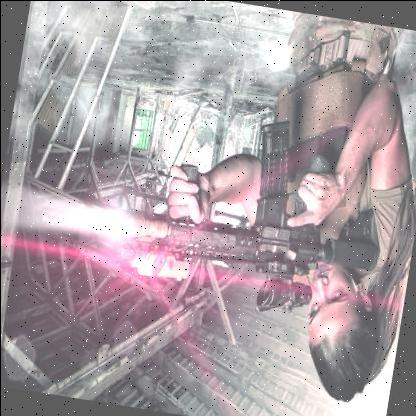rifle: (103, 96, 394, 327)
